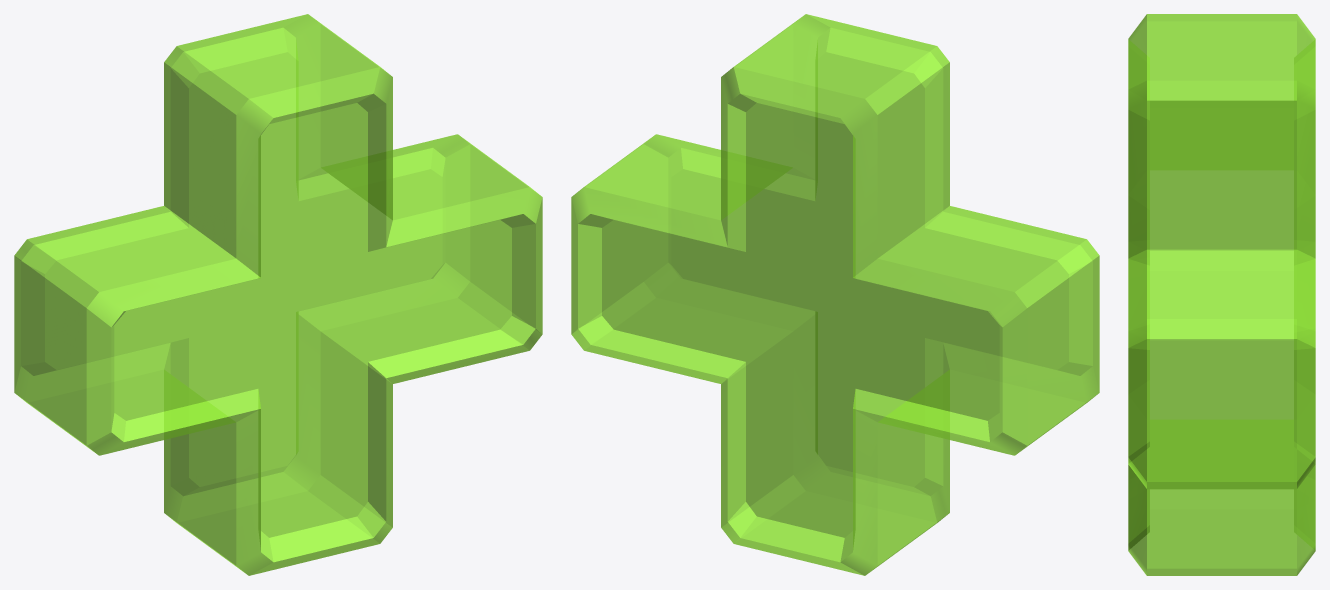
Rendered from HealthKit_Symbol_v001.fbx.
3 views of the same model, side by side, from view 1: azimuth 30°, elevation 25°; view 2: azimuth 150°, elevation 25°; view 3: azimuth 270°, elevation 25° (orthographic). The views are drawn at different scales.
Visible parts, largest first — view 1: HealthKit_Mesh; view 2: HealthKit_Mesh; view 3: HealthKit_Mesh.
Boxes of the visible parts, <box> form: HealthKit_Mesh: <box>14,14,542,575</box>; HealthKit_Mesh: <box>571,14,1099,575</box>; HealthKit_Mesh: <box>1128,14,1315,575</box>.
Size of the model in its own units: 5.38 by 5.38 by 1.85.
